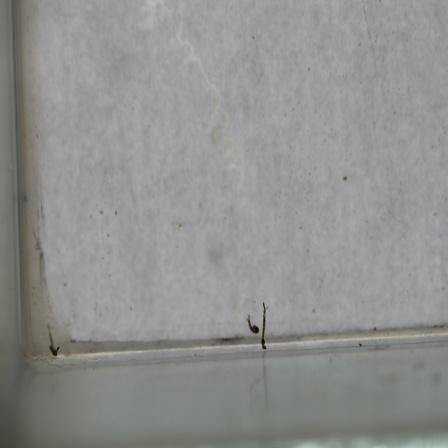Jentik-Nyamuk: (242, 300, 272, 354), (45, 342, 64, 359)
